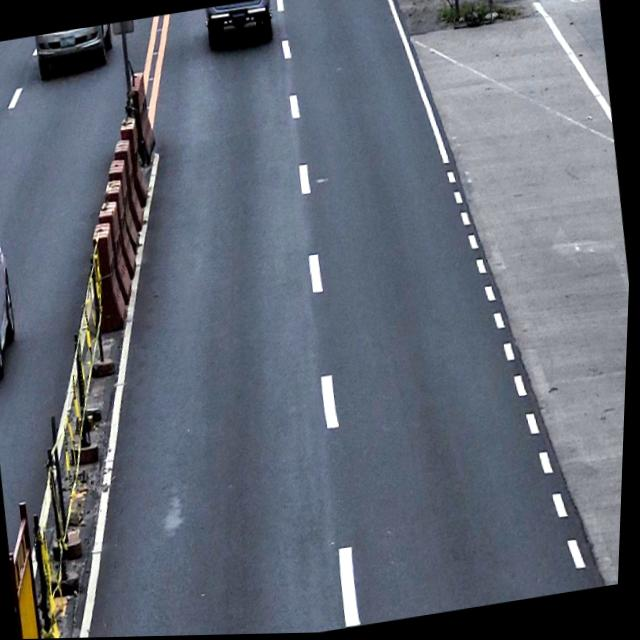Car: (0, 193, 28, 380), (33, 24, 117, 79), (201, 0, 276, 50)
License-Plate: (59, 33, 77, 49)
